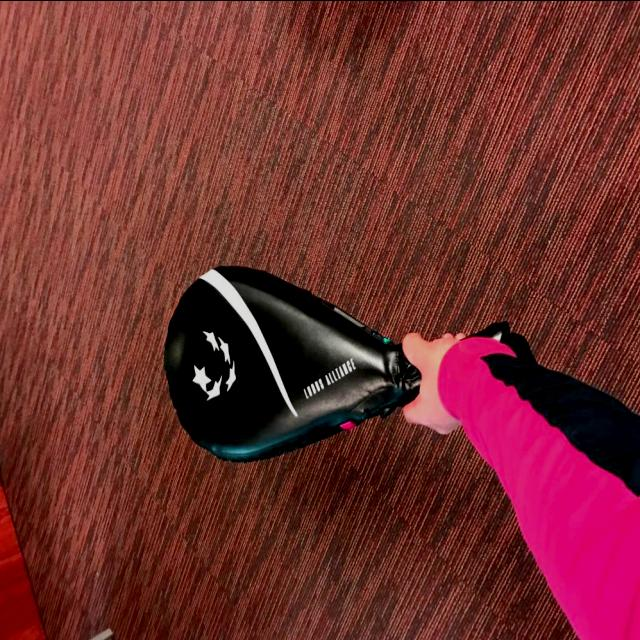paddle: (160, 262, 418, 462)
